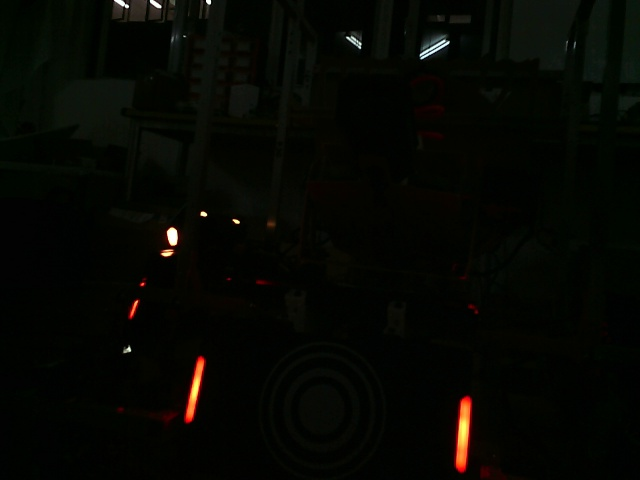lamp: (182, 354, 210, 428), (454, 393, 472, 474)
